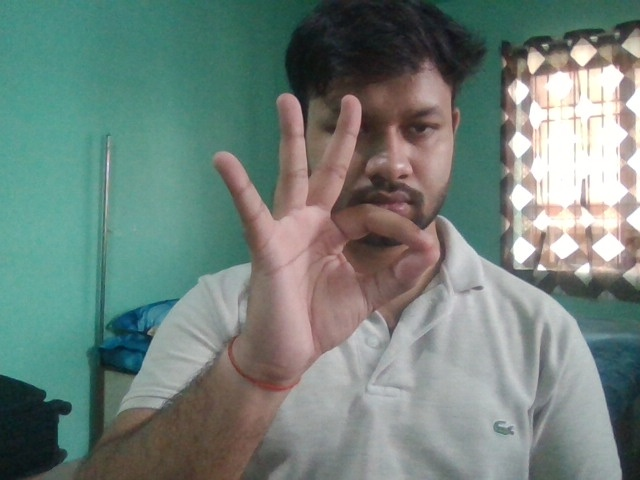Ok: (210, 89, 441, 374)
